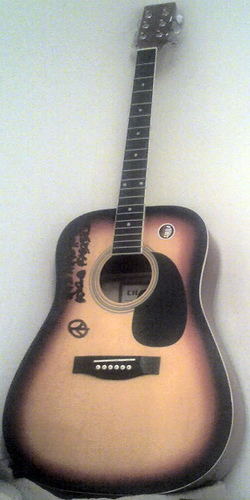guitar: (1, 1, 248, 500)
